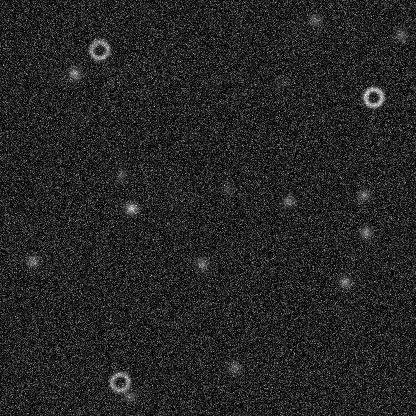Ring: (361, 85, 385, 109), (87, 37, 111, 61), (107, 369, 131, 393)
Spot: (219, 181, 235, 197), (193, 255, 209, 271), (226, 359, 242, 375), (355, 187, 371, 203), (113, 166, 129, 182), (392, 26, 408, 42), (306, 12, 322, 28), (275, 73, 291, 89), (336, 273, 352, 289), (123, 200, 139, 216), (280, 193, 296, 209), (66, 65, 82, 81), (357, 224, 373, 240), (121, 388, 137, 404), (24, 253, 40, 269)
